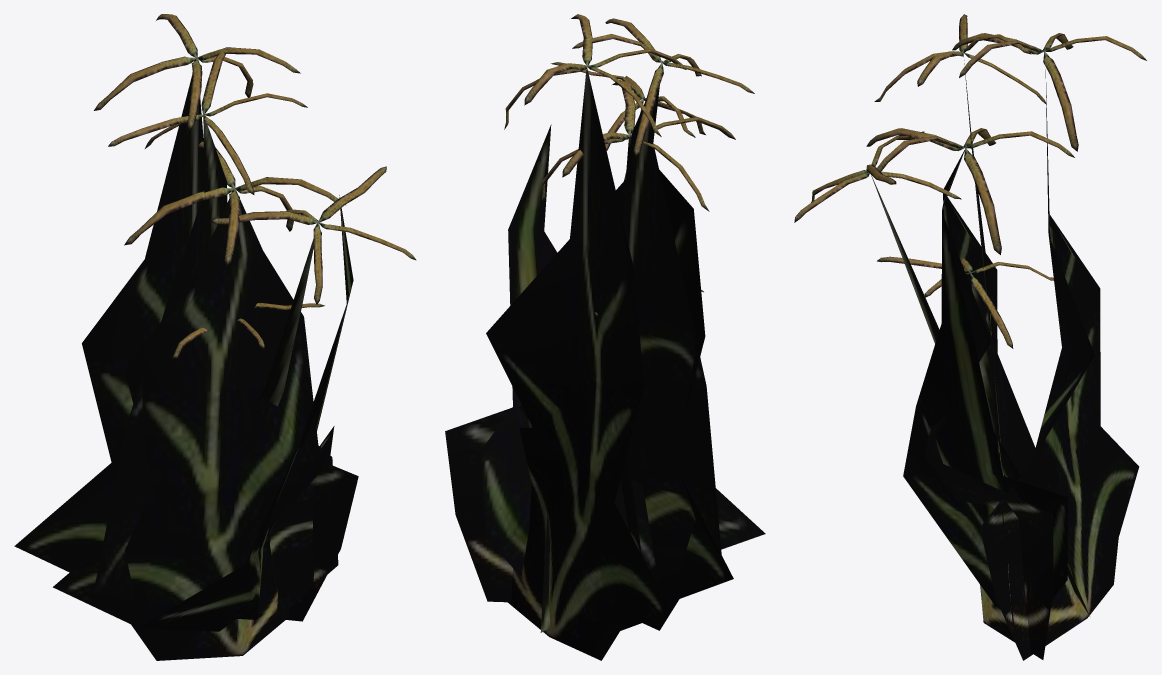
File: ph_grass_bermuda_01.glb
The picture shows the model from 3 angles, left to right: view 1: azimuth 30°, elevation 25°; view 2: azimuth 150°, elevation 25°; view 3: azimuth 270°, elevation 25°; orthographic projection. The views are drawn at different scales.
Parts seen in each view (by area): view 1: v2, v0, v1, v3; view 2: v0, v1, v2, v3; view 3: v0, v1, v2, v3.
Part boxes in pixels (left/top/right/bottom): v2: left=53, top=141, right=345, bottom=660; v0: left=14, top=14, right=416, bottom=621; v1: left=93, top=51, right=353, bottom=631; v3: left=171, top=302, right=324, bottom=358; v0: left=486, top=14, right=705, bottom=660; v1: left=480, top=18, right=765, bottom=578; v2: left=445, top=80, right=735, bottom=630; v3: left=594, top=289, right=703, bottom=555; v0: left=794, top=33, right=1146, bottom=660; v1: left=874, top=14, right=1067, bottom=627; v2: left=866, top=128, right=1074, bottom=659; v3: left=877, top=256, right=1053, bottom=475.
Bounding box in the file's own units: 0.0766 × 0.1522 × 0.0831.
1 material, 1 textured.
